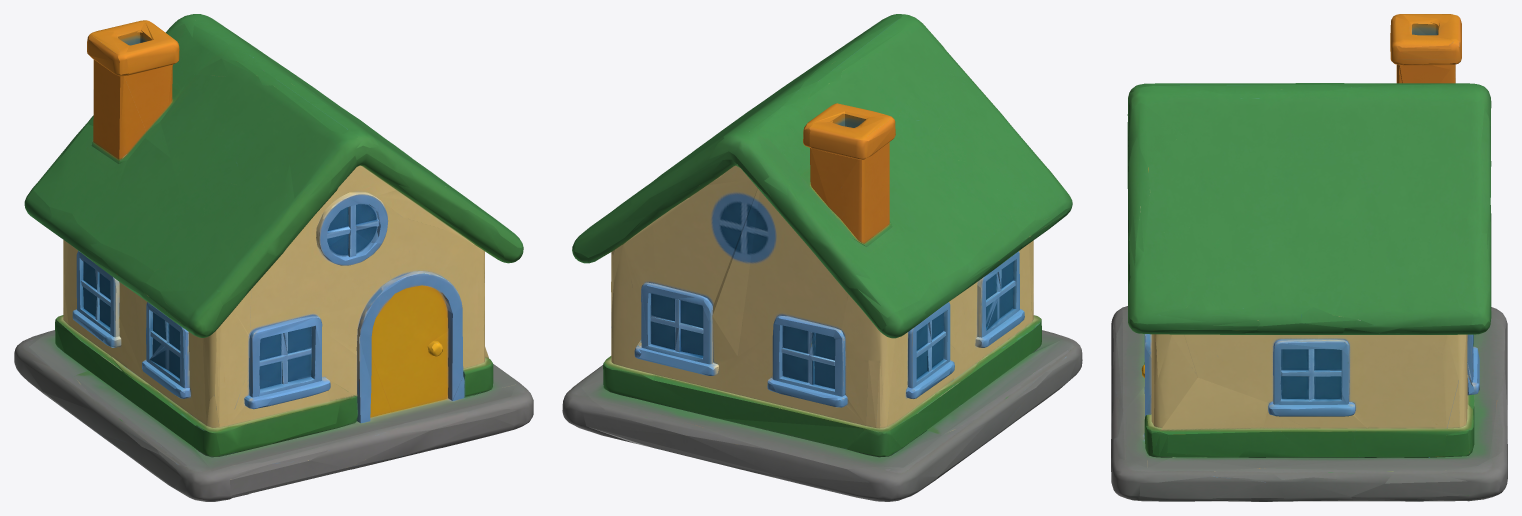
File: house.glb
3 renders of one model, left to right at view 1: azimuth 30°, elevation 25°; view 2: azimuth 150°, elevation 25°; view 3: azimuth 270°, elevation 25°, orthographic. The views are drawn at different scales.
Bounding box in the file's own units: 1.9 × 1.79 × 1.84.
1 material, 1 textured.
